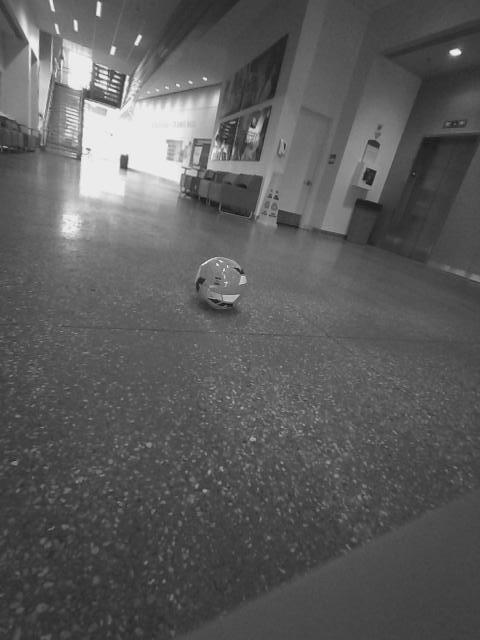ball: (193, 256, 251, 312)
